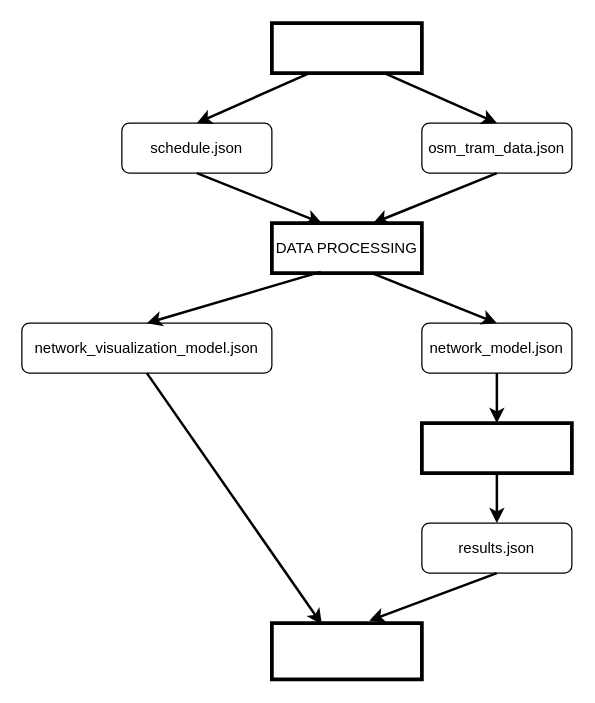
The diagram is 595 pixels wide and 703 high, and some of its shapes have lost their labels. Each missing label, with the centre of its shape:
"DATA COLLECTION" belongs at (x=346, y=47).
"SIMULATION" belongs at (x=496, y=447).
"VISUALIZATION" belongs at (x=346, y=651).
